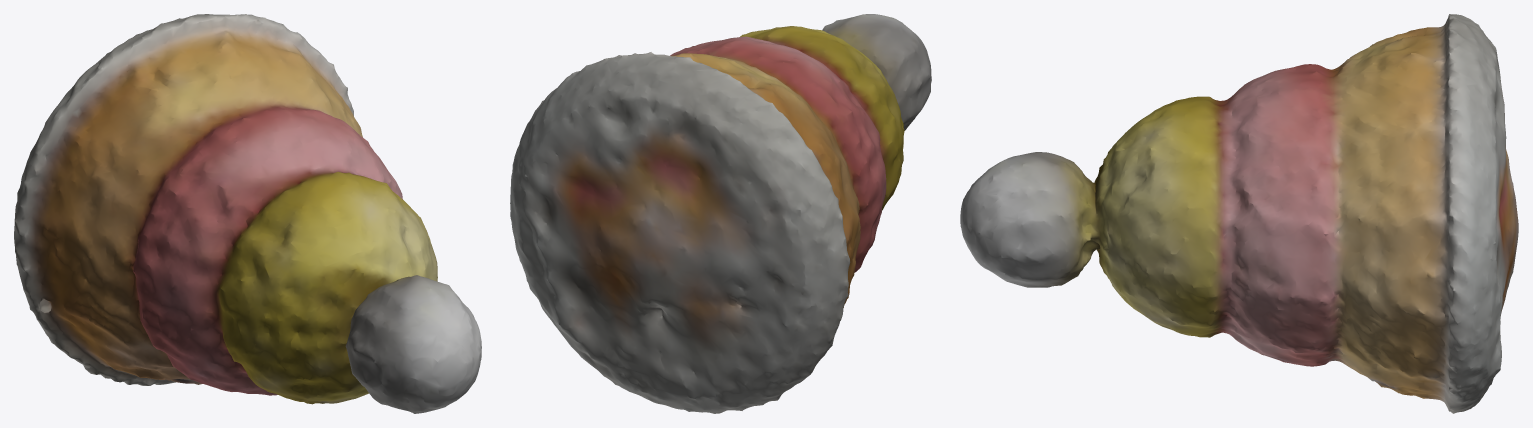
Rendered from chicken.glb.
The picture shows the model from 3 angles, left to right: view 1: azimuth 30°, elevation 25°; view 2: azimuth 150°, elevation 25°; view 3: azimuth 270°, elevation 25°; orthographic projection. The views are drawn at different scales.
Size of the model in its own units: 0.7154 by 0.7126 by 0.9975.
